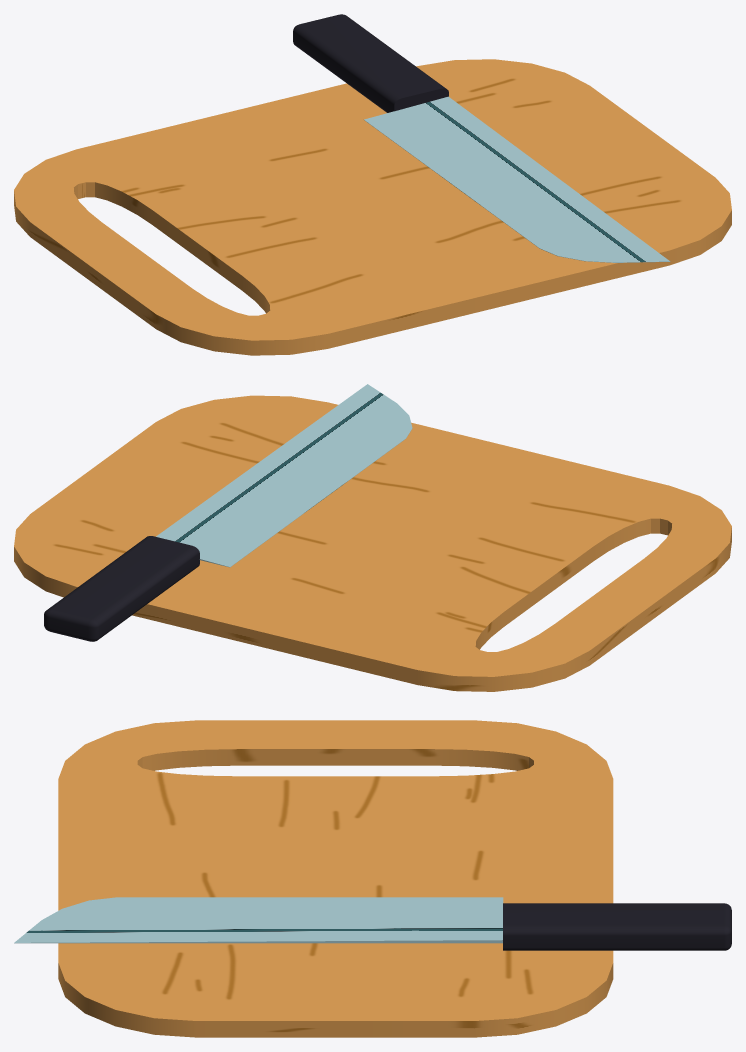
The model's file is tablaMarceline.obj.
3 views of the same model, one above another, from view 1: azimuth 30°, elevation 25°; view 2: azimuth 150°, elevation 25°; view 3: azimuth 270°, elevation 25° (orthographic). The views are drawn at different scales.
Visible parts, largest first — view 1: pCube12; view 2: pCube12; view 3: pCube12.
Part boxes in pixels (x1,y1,x2,y2): pCube12: [14, 14, 731, 355]; pCube12: [14, 384, 731, 691]; pCube12: [14, 720, 731, 1037].
Bounding box in the file's own units: 1.28 × 0.0779 × 1.29.
Materials: 3 (3 with a texture image).
